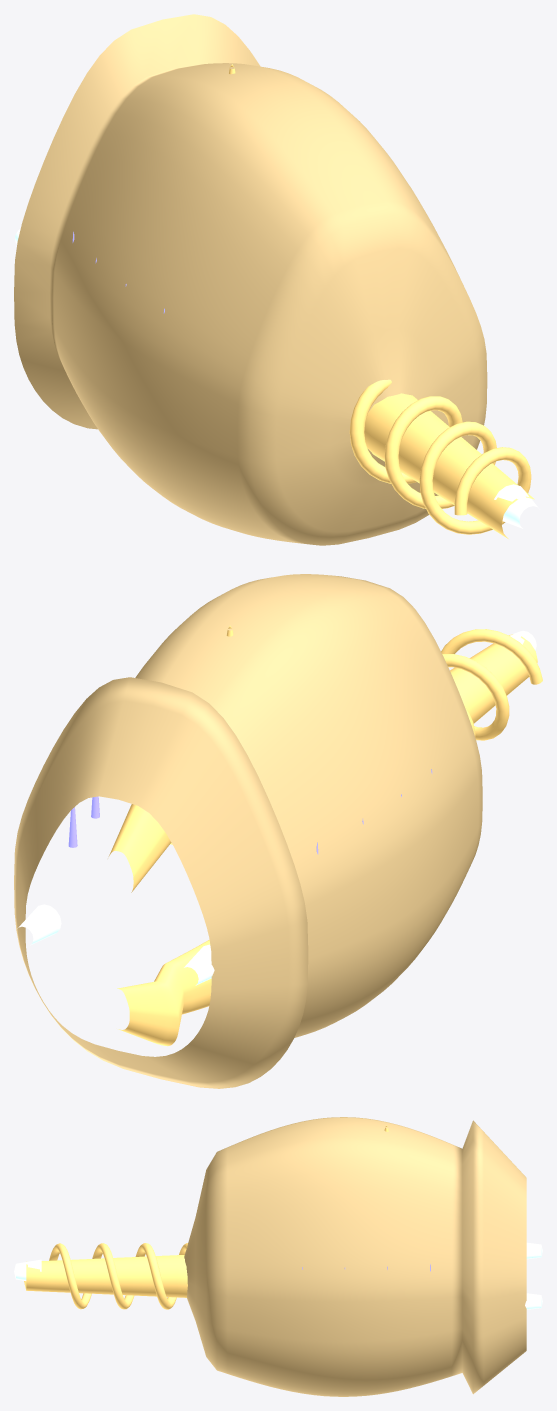
Rendered from empire_dreadnought.glb.
The picture shows the model from 3 angles, top to bottom: view 1: azimuth 30°, elevation 25°; view 2: azimuth 150°, elevation 25°; view 3: azimuth 270°, elevation 25°; orthographic projection. The views are drawn at different scales.
Parts seen in each view (by area): view 1: empire_dreadnought; view 2: empire_dreadnought; view 3: empire_dreadnought.
Part boxes in pixels (x1=…): empire_dreadnought: x1=14, y1=14, x2=539, y2=545; empire_dreadnought: x1=14, y1=574, x2=542, y2=1088; empire_dreadnought: x1=14, y1=1117, x2=542, y2=1396.
Bounding box in the file's own units: 2.1 × 2.72 × 5.11.
